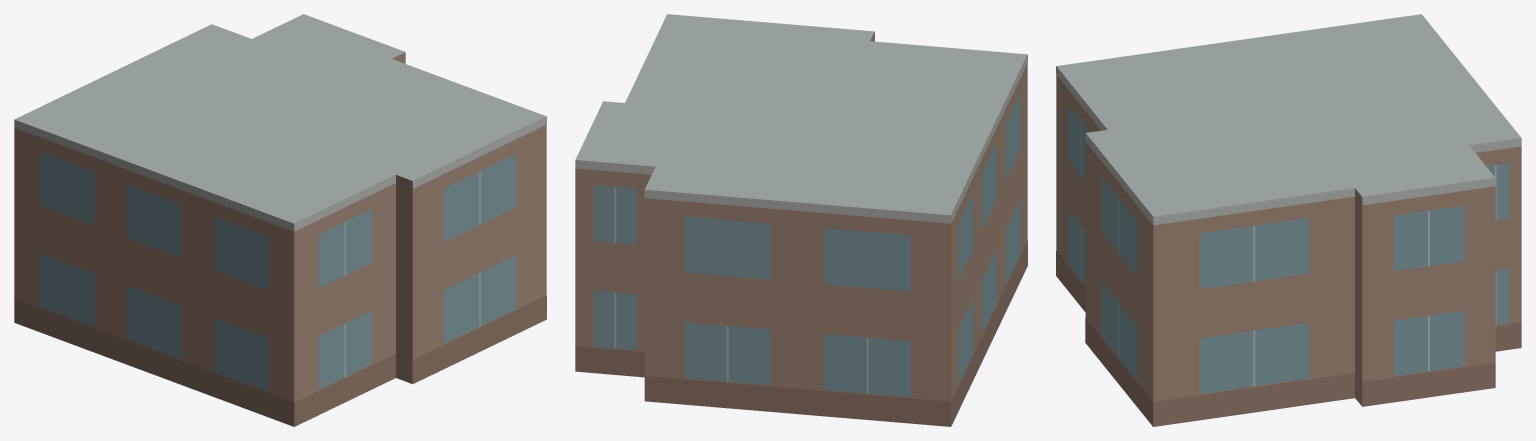
The model's file is survey-upis-32721268.glb.
3 views of the same model, side by side, from view 1: azimuth 30°, elevation 25°; view 2: azimuth 150°, elevation 25°; view 3: azimuth 270°, elevation 25° (orthographic). The views are drawn at different scales.
Visible parts, largest first — view 1: survey-upis-32721268.tmp; view 2: survey-upis-32721268.tmp; view 3: survey-upis-32721268.tmp.
Boxes of the visible parts, box(x1,y1,x2,y2) form: survey-upis-32721268.tmp: box(14, 14, 546, 426); survey-upis-32721268.tmp: box(575, 14, 1027, 426); survey-upis-32721268.tmp: box(1056, 14, 1521, 426).
Bounding box in the file's own units: 12.66 × 6.1 × 12.27.
